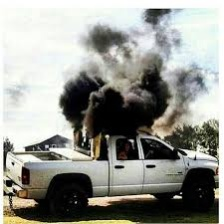smoke: (70, 30, 178, 132)
